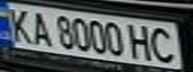0: (103, 19, 127, 57), (87, 18, 109, 55), (69, 16, 90, 52)
8: (51, 12, 75, 50)
A: (24, 9, 54, 47)
C: (145, 25, 181, 63)
H: (124, 21, 157, 61)
K: (3, 6, 36, 44)
